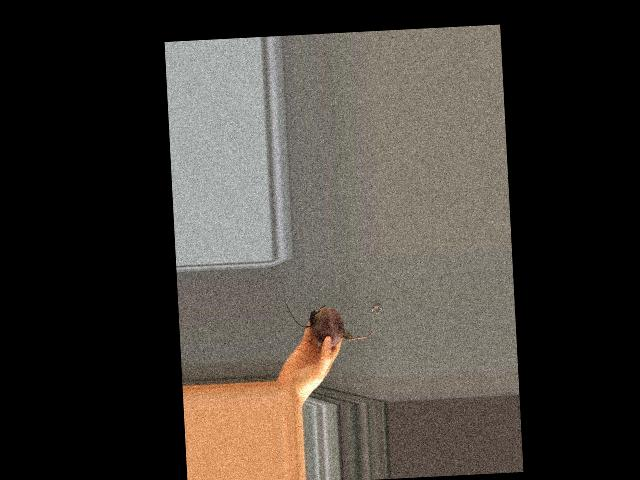beet: (283, 288, 376, 349)
